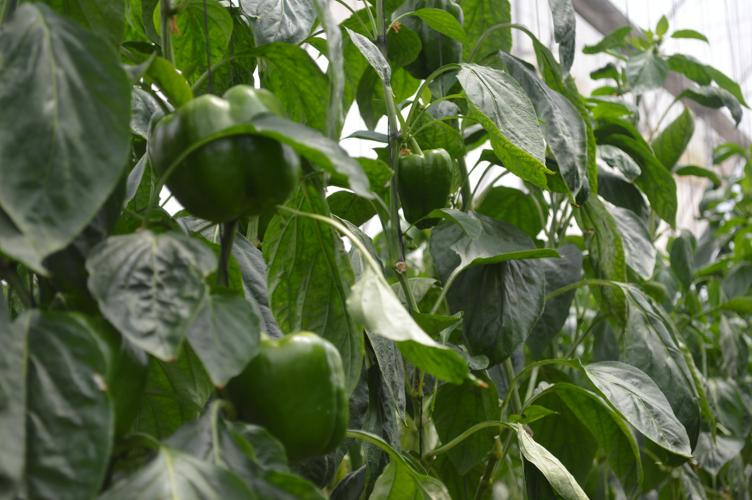BellPepper: (155, 82, 298, 216), (229, 327, 349, 457), (401, 5, 464, 72), (401, 149, 451, 227)
